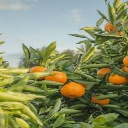orange: (42, 71, 69, 86)
